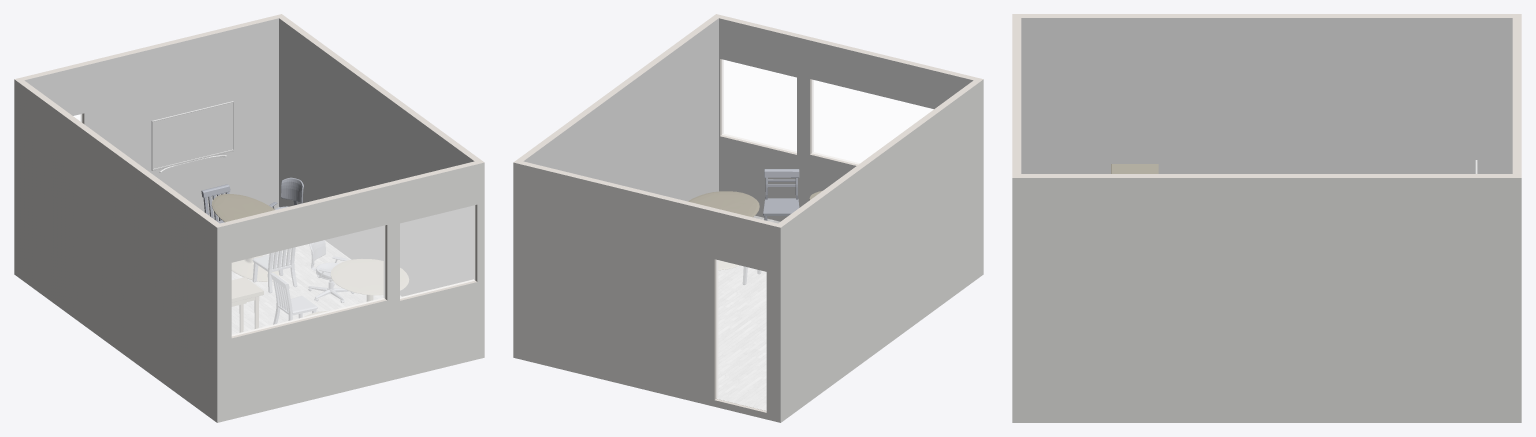
Rendered from Salle_215.glb.
3 views of the same model, side by side, from view 1: azimuth 30°, elevation 25°; view 2: azimuth 150°, elevation 25°; view 3: azimuth 270°, elevation 25° (orthographic). The views are drawn at different scales.
Parts seen in each view (by area): view 1: wall_0, wall_1, wall_8, wall_10, window_1, window_3, window_0, window_2, television0, floor_Dining_Room, wall_7, table_dining_elliptic1 (+10 smaller); view 2: wall_3, wall_0, wall_8, wall_6, door_0, door_2, floor_Dining_Room, window_1, window_3, window_0, window_2, wall_7 (+5 smaller); view 3: wall_2, wall_4, wall_9, wall_5, wall_7, wall_11, table_other_rect0.
Part boxes in pixels (x1,y1,x2,y2): wall_0: (14, 79, 217, 422); wall_1: (217, 162, 484, 422); wall_8: (279, 18, 474, 296); wall_10: (24, 18, 278, 220); window_1: (232, 225, 384, 335); window_3: (232, 226, 384, 335); window_0: (400, 205, 474, 298); window_2: (400, 205, 474, 298); television0: (151, 101, 233, 172); floor_Dining_Room: (232, 207, 401, 334); wall_7: (217, 161, 484, 338); table_dining_elliptic1: (331, 259, 408, 301); wall_3: (513, 162, 780, 422); wall_0: (780, 79, 983, 422); wall_8: (523, 18, 718, 201); wall_6: (719, 18, 973, 221); door_0: (716, 260, 766, 410); door_2: (716, 260, 766, 410); floor_Dining_Room: (717, 215, 779, 410); window_1: (812, 80, 933, 164); window_3: (812, 80, 933, 164); window_0: (722, 59, 796, 152); window_2: (722, 60, 796, 152); wall_7: (716, 14, 982, 165); wall_2: (1012, 178, 1521, 422); wall_4: (1021, 18, 1512, 173); wall_9: (1012, 174, 1521, 177); wall_5: (1013, 14, 1520, 17); wall_7: (1012, 14, 1021, 177); wall_11: (1512, 14, 1521, 177); table_other_rect0: (1111, 164, 1158, 173).
Bounding box in the file's own units: 4.22 × 2.94 × 5.54.
24 materials, 1 textured.
